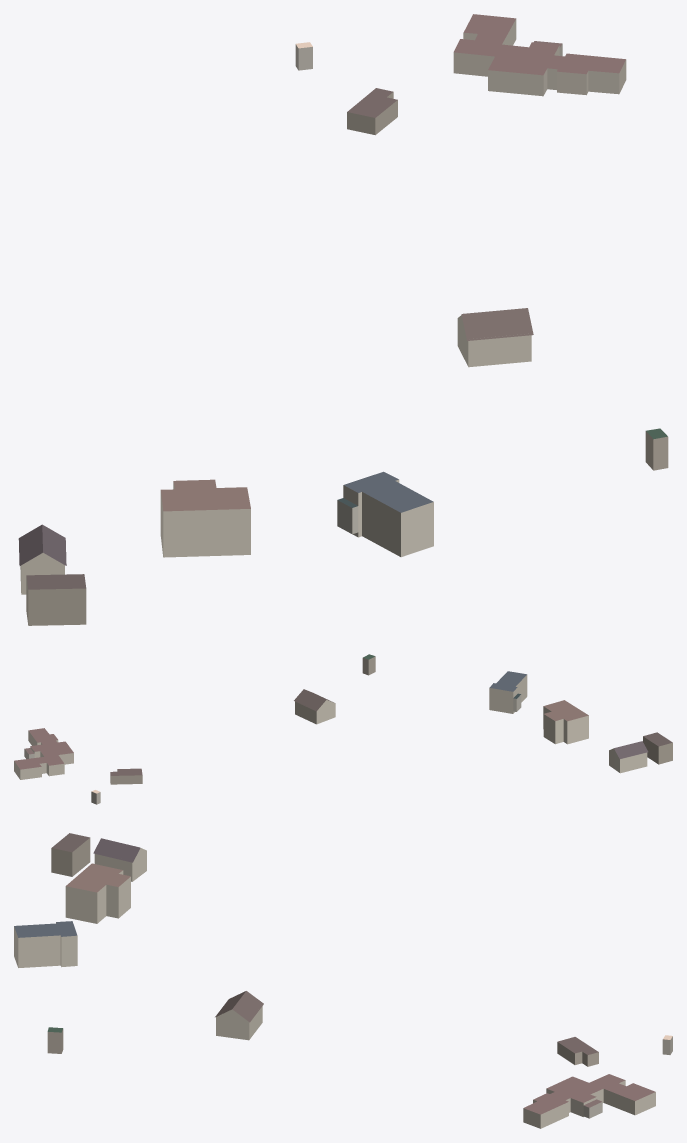
The picture shows the model from 3 angles, top to bottom: view 1: azimuth 30°, elevation 25°; view 2: azimuth 150°, elevation 25°; view 3: azimuth 270°, elevation 25°; orthographic projection. The views are drawn at different scales.
Parts seen in each view (by area): view 1: tuile; view 2: tuile; view 3: tuile.
Part boxes in pixels (x1,y1,x2,y2): tuile: (18,14,668,625); tuile: (14,654,672,804); tuile: (14,833,672,1128).
Size of the model in its own units: 226 by 19.4 by 200.
